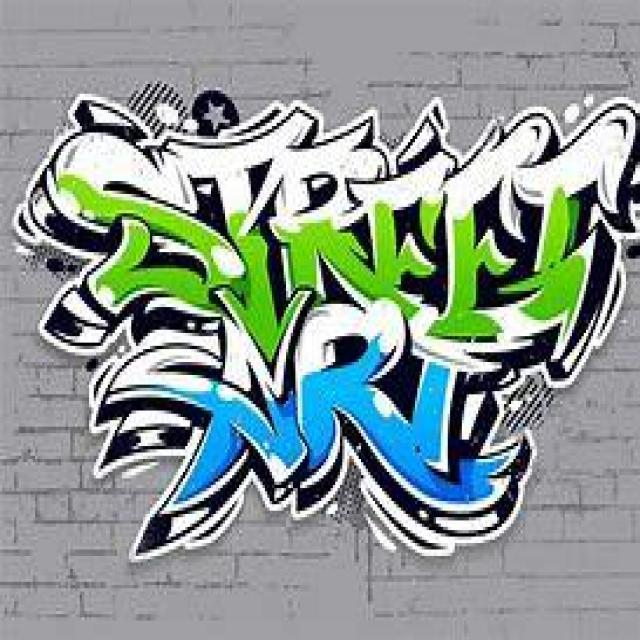nonspitting: (14, 83, 640, 562)
